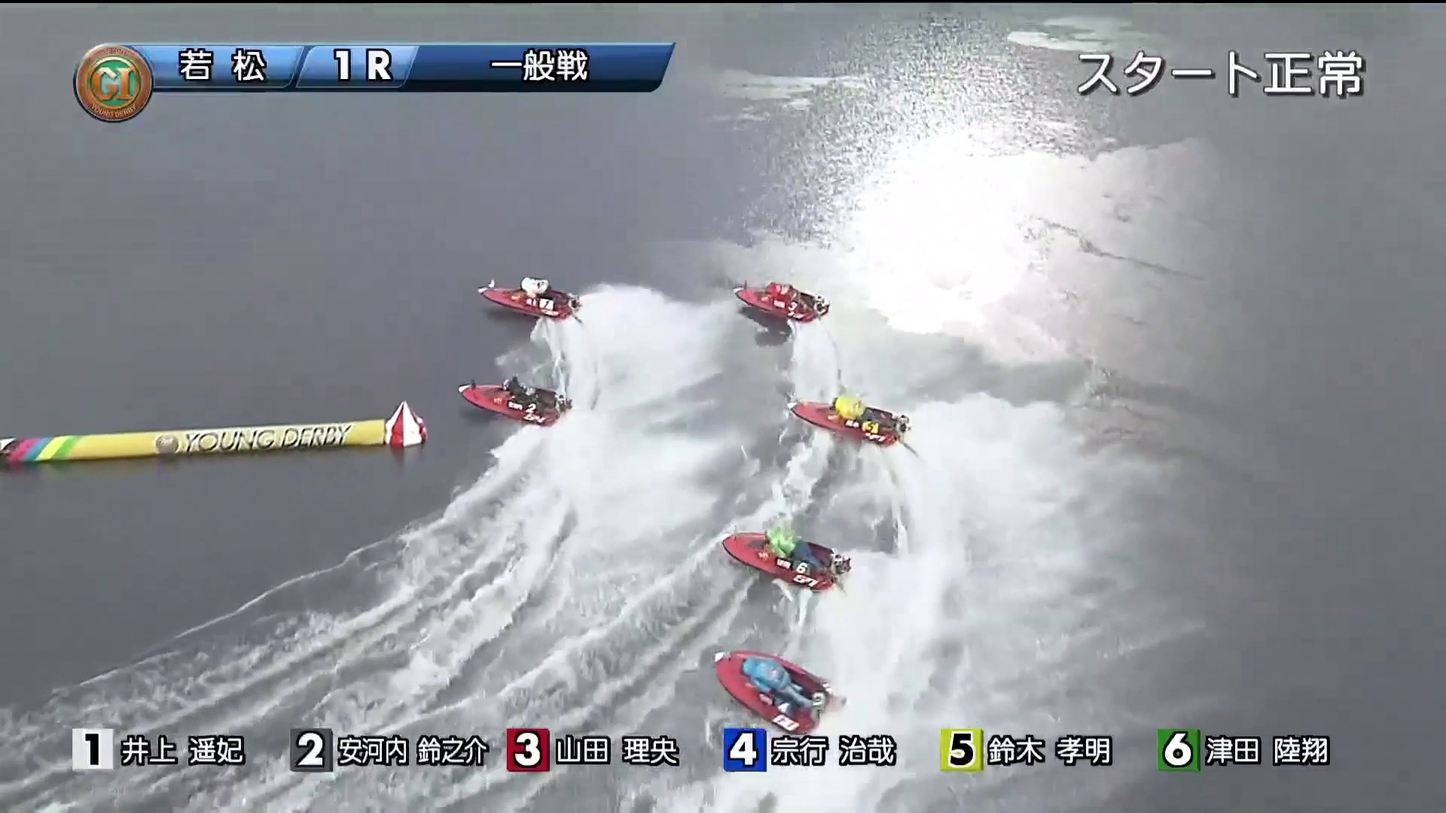１号艇: (478, 288, 549, 341)
２号艇: (436, 373, 565, 433)
３号艇: (729, 277, 826, 324)
４号艇: (709, 527, 843, 593)
５号艇: (715, 664, 839, 719)
６号艇: (789, 376, 888, 456)
